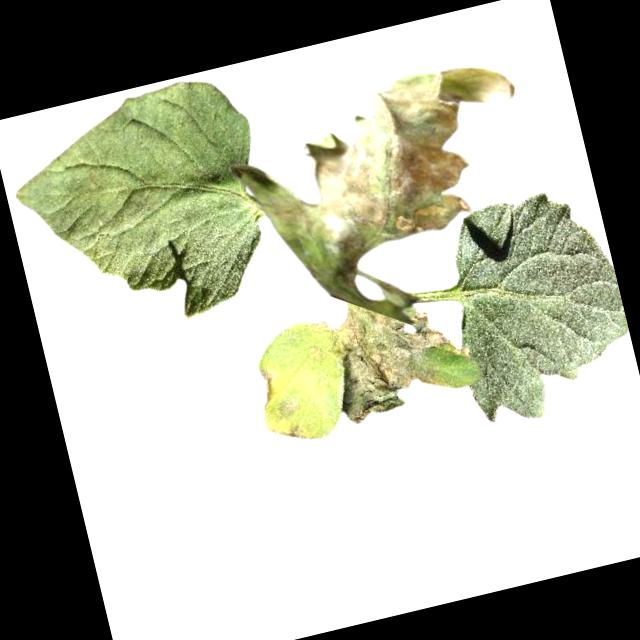Late_blight: (218, 50, 545, 278), (318, 279, 473, 425), (255, 367, 283, 403), (276, 391, 306, 417)
healthy: (1, 68, 289, 352), (431, 179, 640, 432)
